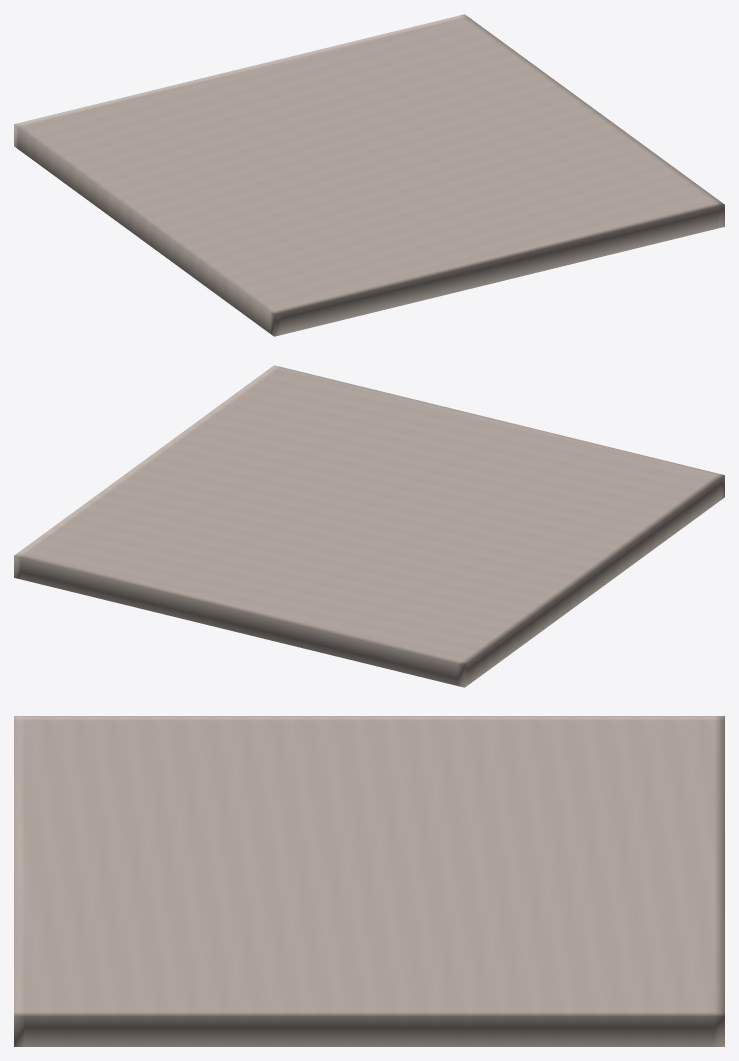
The model's file is terrain-tile-1.glb.
3 renders of one model, top to bottom at view 1: azimuth 30°, elevation 25°; view 2: azimuth 150°, elevation 25°; view 3: azimuth 270°, elevation 25°, orthographic. The views are drawn at different scales.
Visible parts, largest first — view 1: Deformable terrain tile; view 2: Deformable terrain tile; view 3: Deformable terrain tile.
Boxes of the visible parts, <box> form: Deformable terrain tile: <box>14,14,724,336</box>; Deformable terrain tile: <box>14,365,724,687</box>; Deformable terrain tile: <box>14,716,724,1046</box>.
Size of the model in its own units: 64 by 3 by 64.
